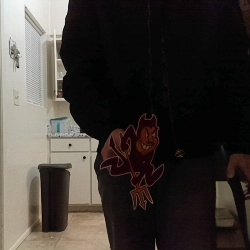sparky: (99, 113, 164, 209)
